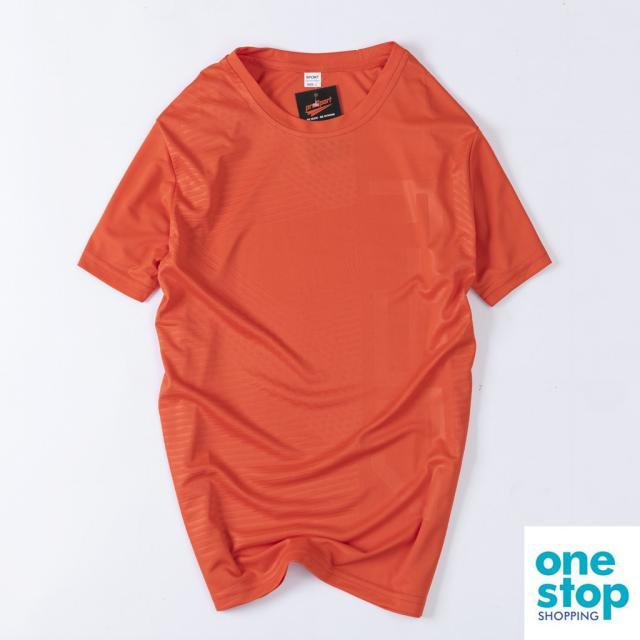Shirt: (72, 40, 560, 620)
